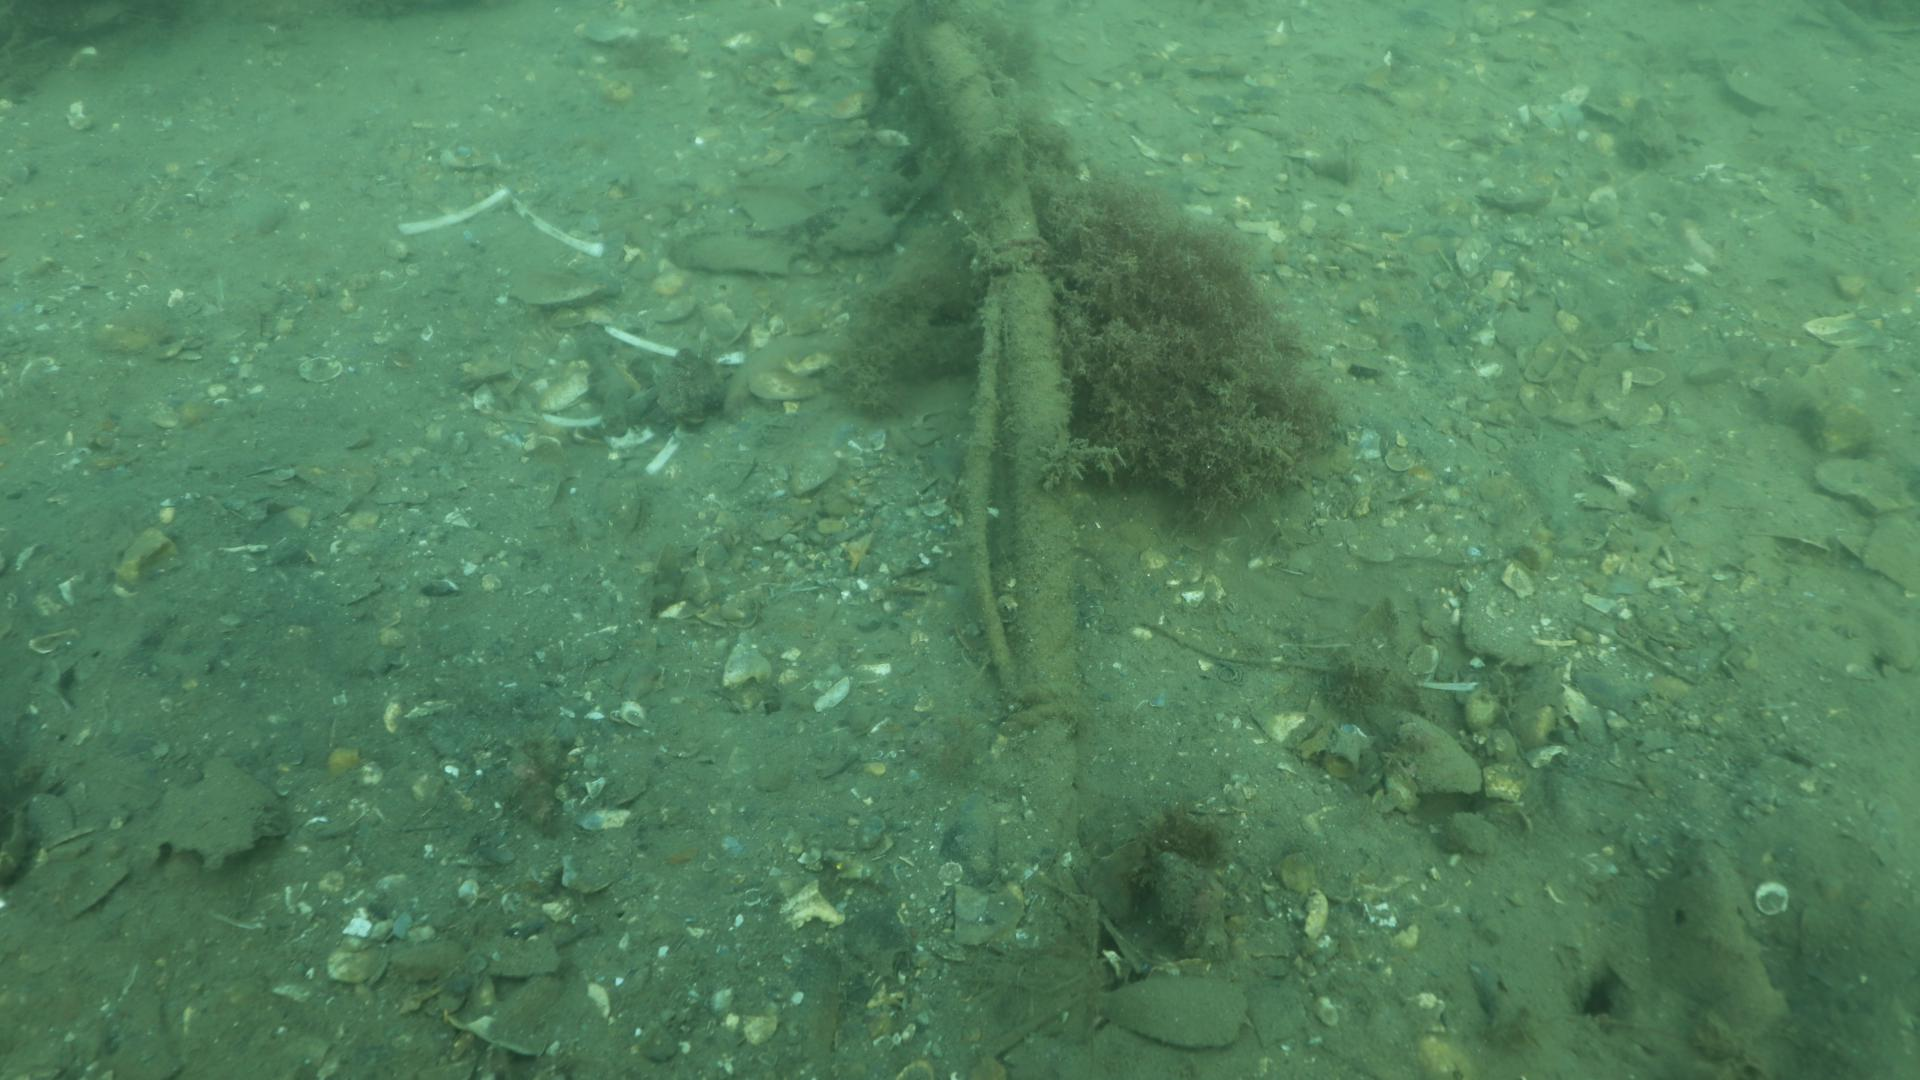rope: (906, 18, 1088, 695)
